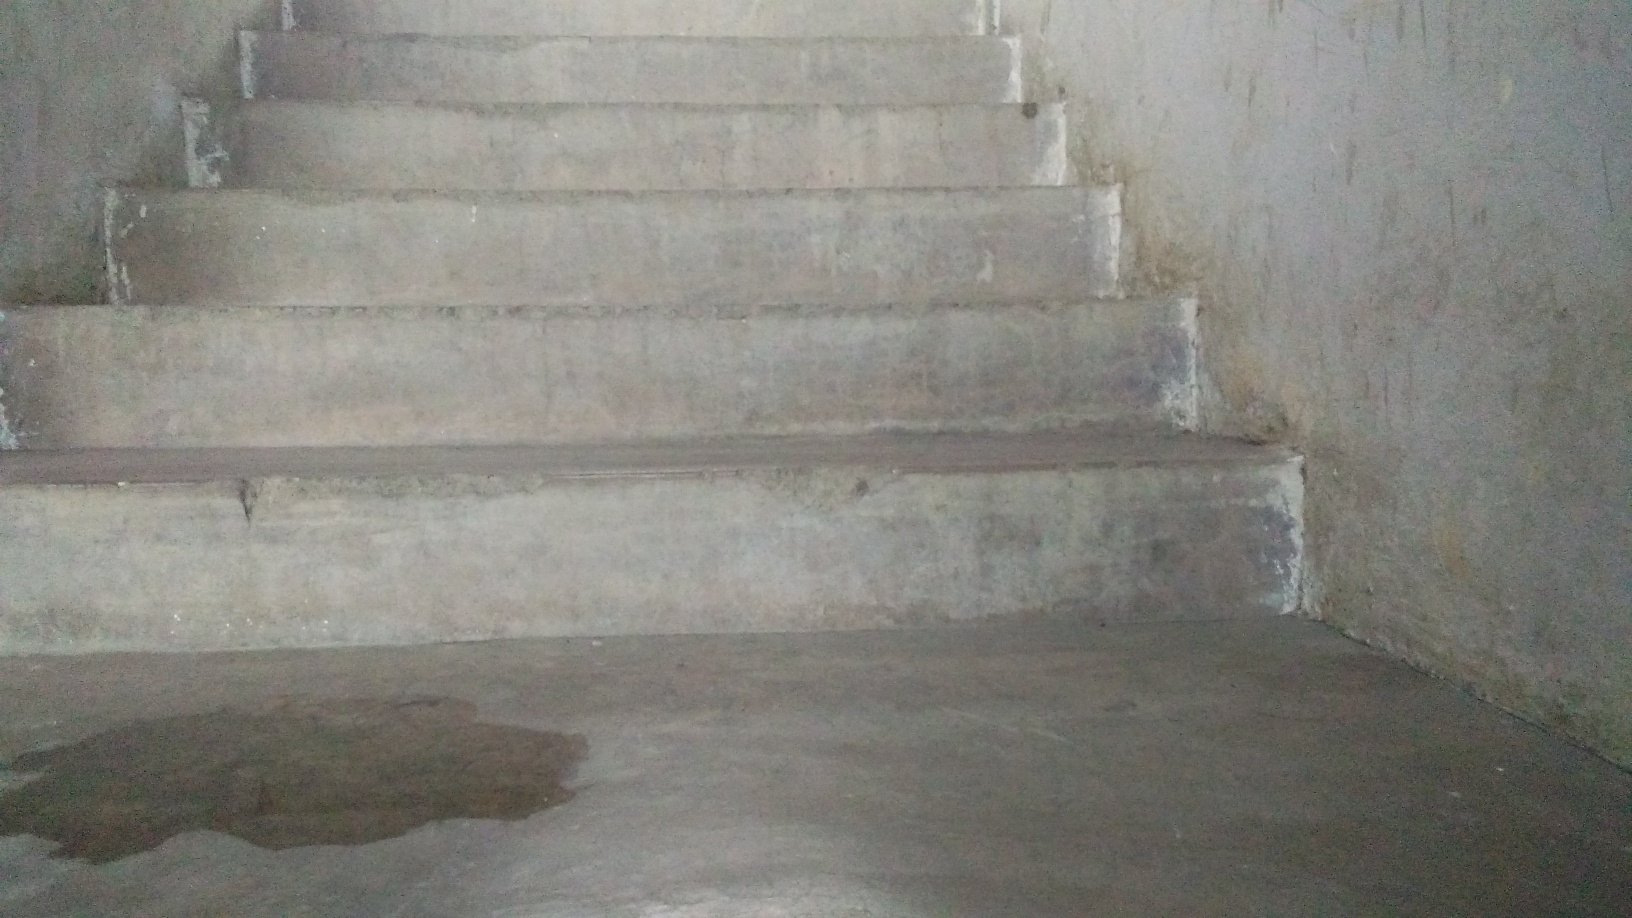stairs_up: (7, 7, 1313, 673)
